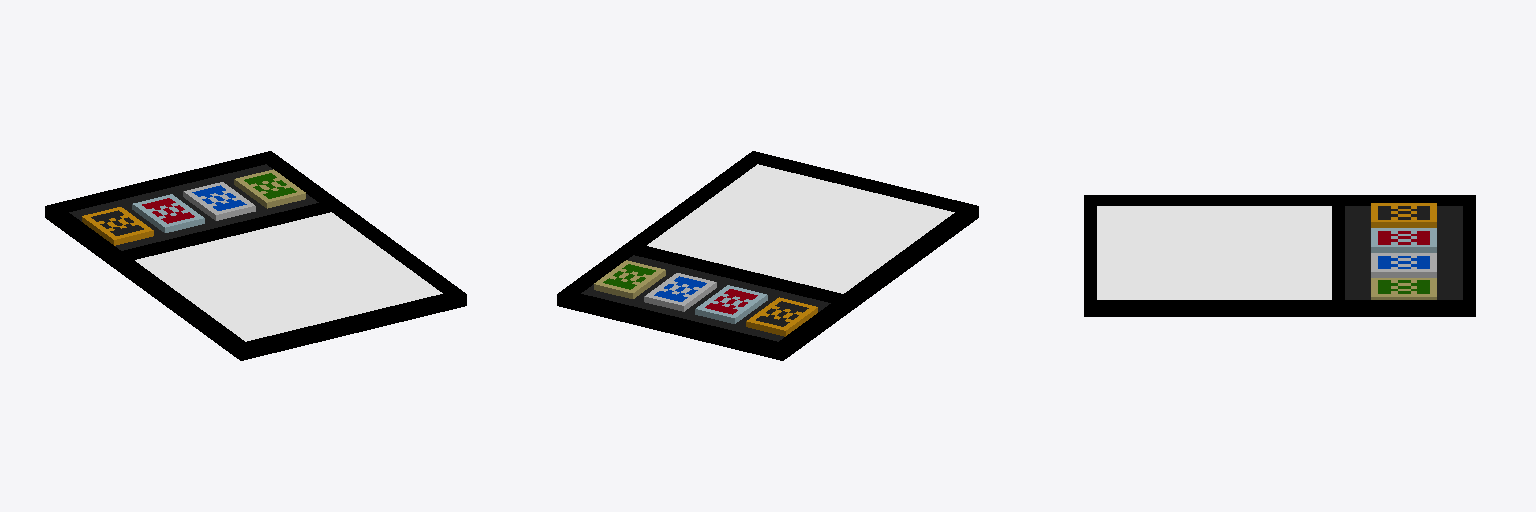
The picture shows the model from 3 angles: view 1: azimuth 30°, elevation 25°; view 2: azimuth 150°, elevation 25°; view 3: azimuth 270°, elevation 25°; orthographic projection.
Visible parts, largest first — view 1: object 1; view 2: object 1; view 3: object 1.
Boxes of the visible parts, <box> form: object 1: <box>45,151,466,360</box>; object 1: <box>557,151,978,360</box>; object 1: <box>1084,195,1475,316</box>.
Size of the model in its own units: 4 by 0.2 by 6.
1 materials, 1 textured.